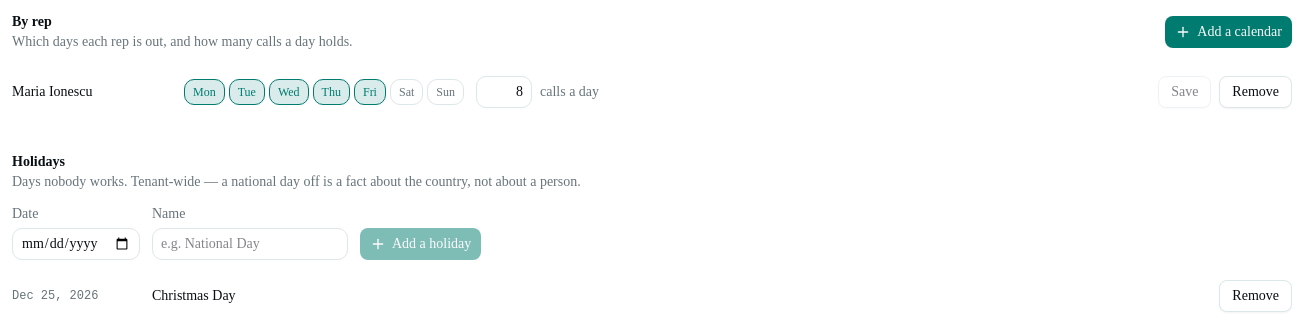
<WorkingCalendars> › refuses an empty week, because that rule is a deletion
The width and height of the screenshot is (1304, 329).
Expected: the button with aria-label "Save the calendar for Maria Ionescu" is shown, 1158,76 -> 1211,108
Click the checkbox named "Monday, Maria Ionescu". click: (204, 92)
box: 184,79 -> 225,105
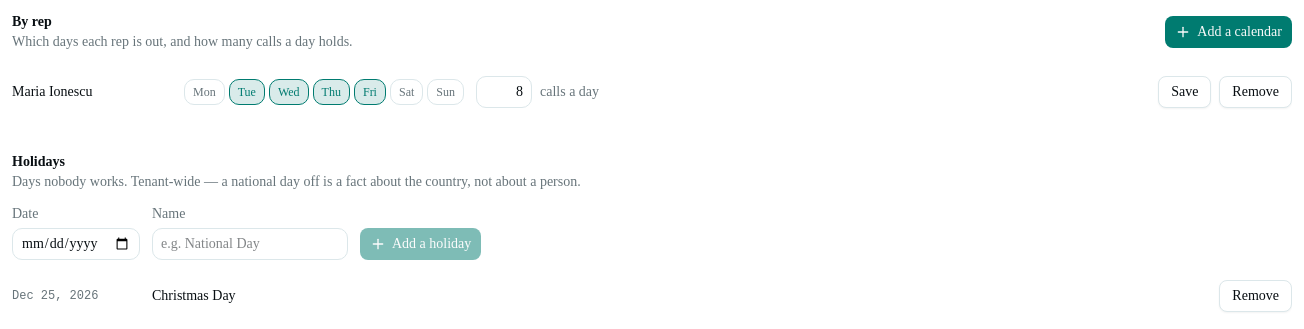
Click the checkbox labelled "Tue". click: (247, 92)
box: 229,79 -> 265,105
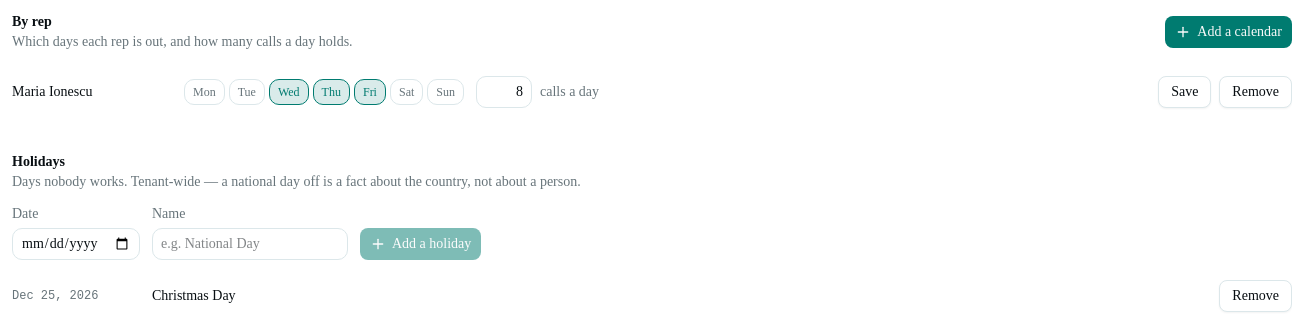
Click the checkbox labelled "Wed". click: (289, 92)
box: 269,79 -> 309,105
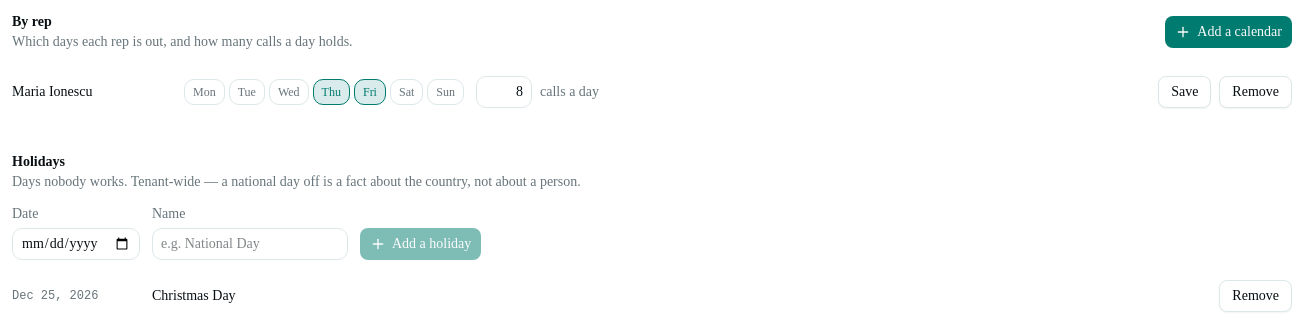
Click the checkbox labelled "Thu". click: (331, 92)
box: 313,79 -> 350,105
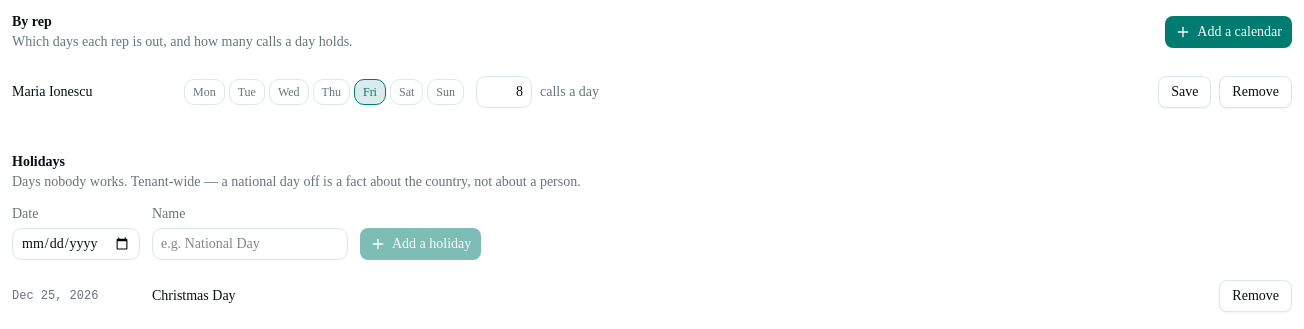
Click the checkbox labelled "Fri". click: (370, 92)
box: 354,79 -> 386,105
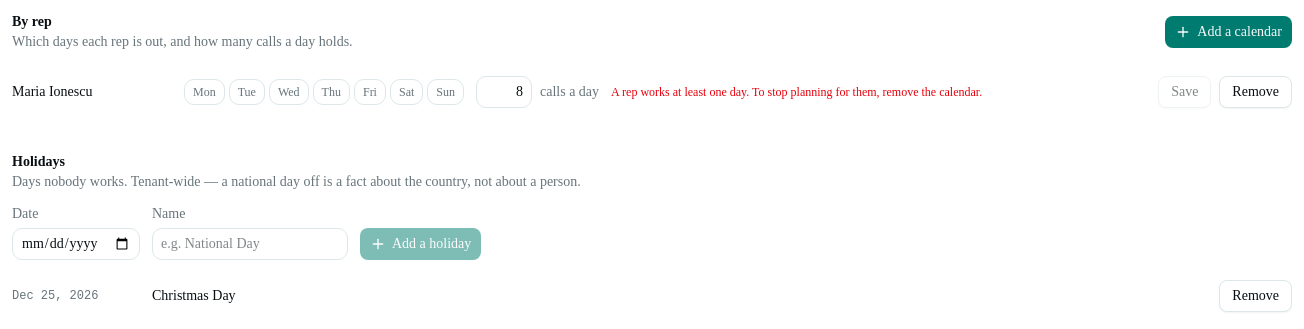
Result: the text "works at least one day. To stop planning for them" is shown at 611,85 -> 982,99
Result: the button with aria-label "Save the calendar for Maria Ionescu" is disabled at 1158,76 -> 1211,108
